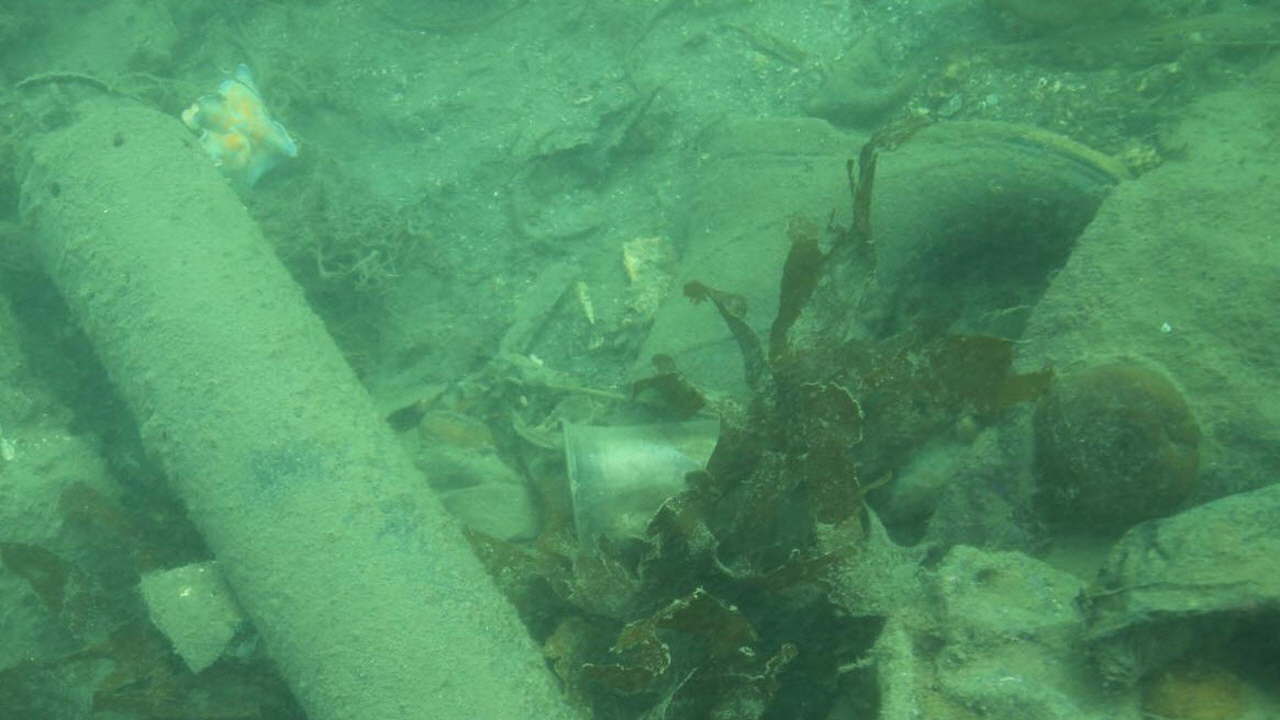eel fish trap: (11, 70, 582, 720)
